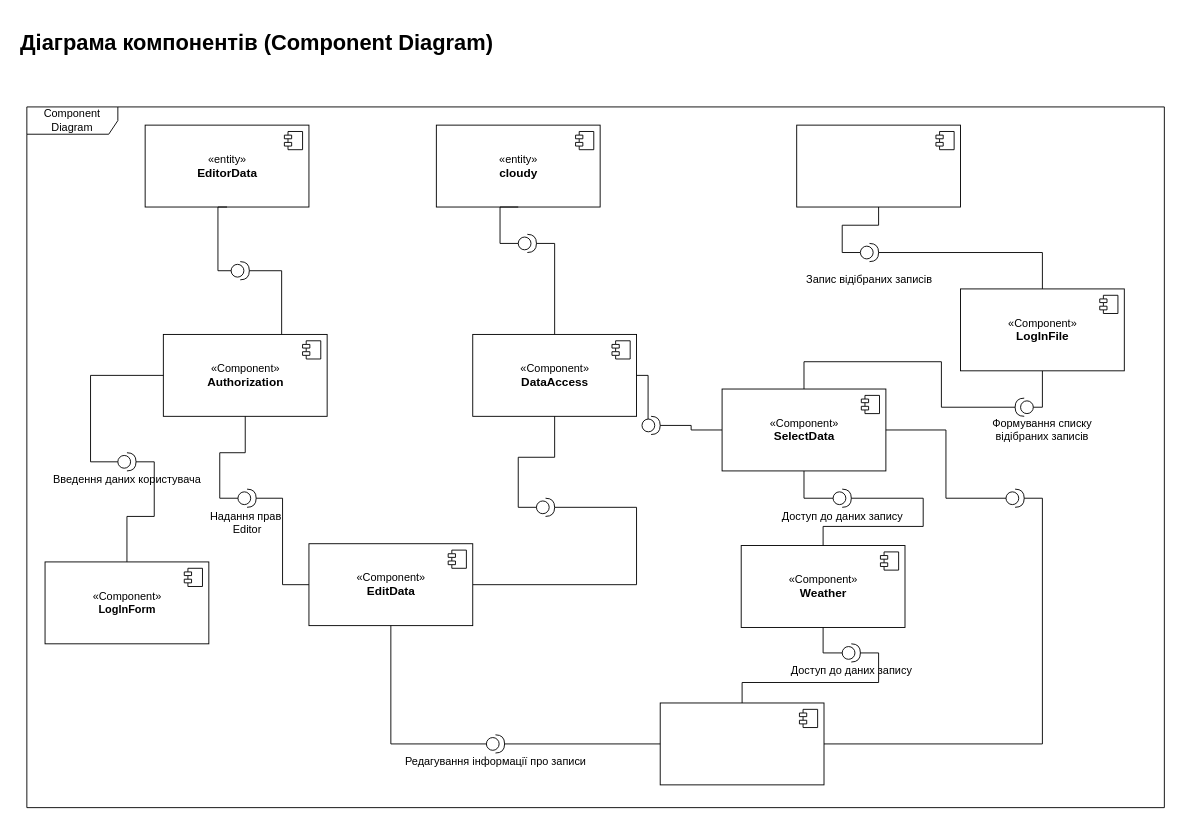
Some shapes in this 1180 by 824 pixel diagram are drawn without their labels. The centre of each missing label's shape, as x and y in pixels:
"«Component» InfoWeatherForm" goes at (741,743).
"«entity» template" goes at (878,165).
"Доступ до списку записів" goes at (650,425).
"Отримання списку записів" goes at (526,243).
"Перевірка авторизації" goes at (239,270).
"Перегляд записів" goes at (1014,497).
"Редагування записів" goes at (545,506).
